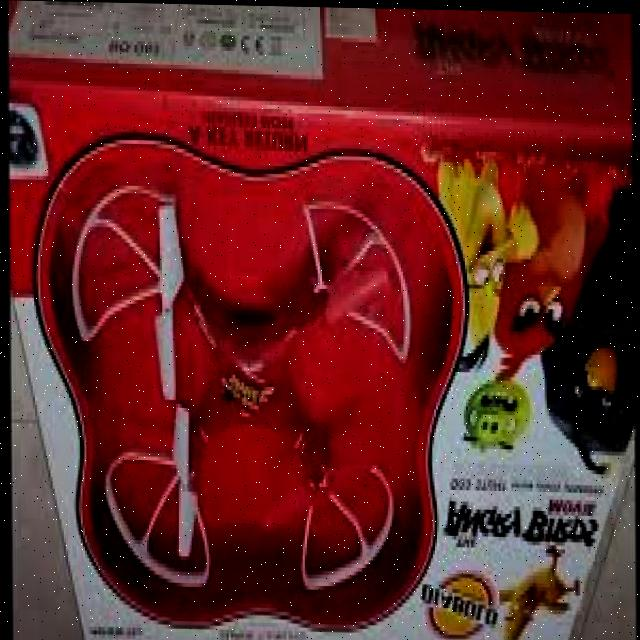drone: (66, 170, 430, 603)
